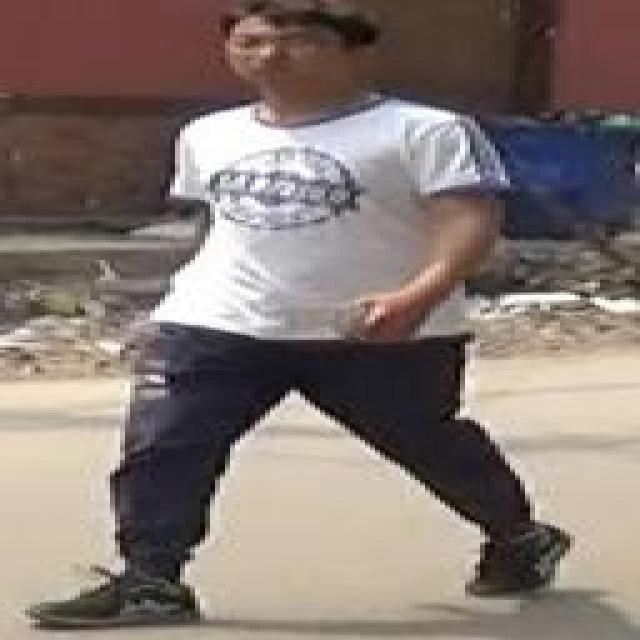adult: (30, 1, 568, 638)
